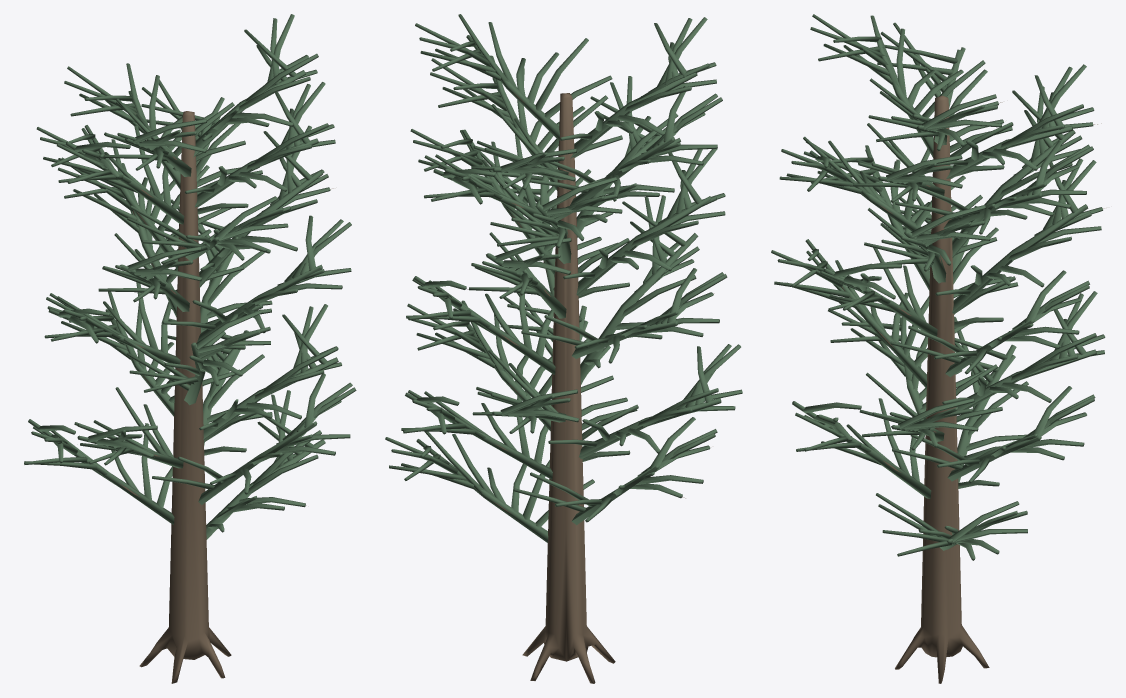
Rendered from Genevrier_0_Niveau1.fbx.
3 renders of one model, left to right at view 1: azimuth 30°, elevation 25°; view 2: azimuth 150°, elevation 25°; view 3: azimuth 270°, elevation 25°, orthographic. The views are drawn at different scales.
Visible parts, largest first — view 1: Genevrier_0_Niveau1_Jeu; view 2: Genevrier_0_Niveau1_Jeu; view 3: Genevrier_0_Niveau1_Jeu.
Boxes of the visible parts, <box> form: Genevrier_0_Niveau1_Jeu: <box>24,14,356,683</box>; Genevrier_0_Niveau1_Jeu: <box>385,14,742,683</box>; Genevrier_0_Niveau1_Jeu: <box>771,14,1105,683</box>.
Bounding box in the file's own units: 74.87 × 146 × 72.63.
